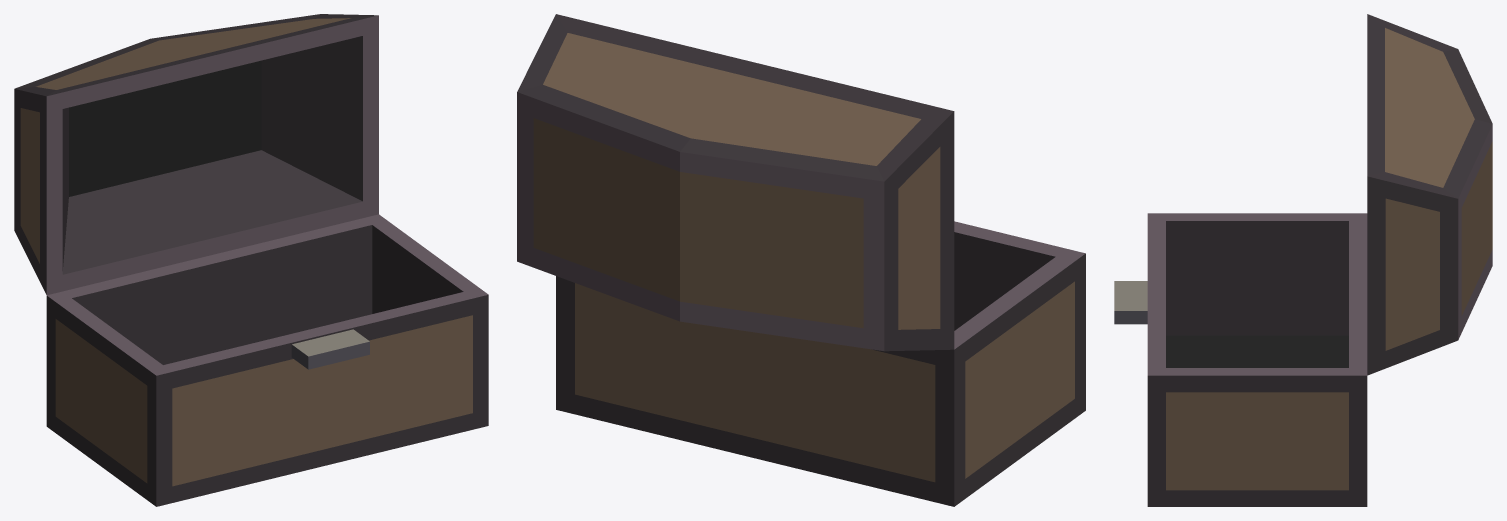
File: TB_D_Prop_ChestB_Open_A.FBX
The picture shows the model from 3 angles, left to right: view 1: azimuth 30°, elevation 25°; view 2: azimuth 150°, elevation 25°; view 3: azimuth 270°, elevation 25°; orthographic projection. The views are drawn at different scales.
Visible parts, largest first — view 1: TB_D_Prop_ChestB_Open_A; view 2: TB_D_Prop_ChestB_Open_A; view 3: TB_D_Prop_ChestB_Open_A.
Boxes of the visible parts, x1,y1,x2,y2 form: TB_D_Prop_ChestB_Open_A: [14, 14, 488, 506]; TB_D_Prop_ChestB_Open_A: [517, 14, 1085, 506]; TB_D_Prop_ChestB_Open_A: [1114, 14, 1492, 506].
Size of the model in its own units: 1.05 by 0.9932 by 1.03.
